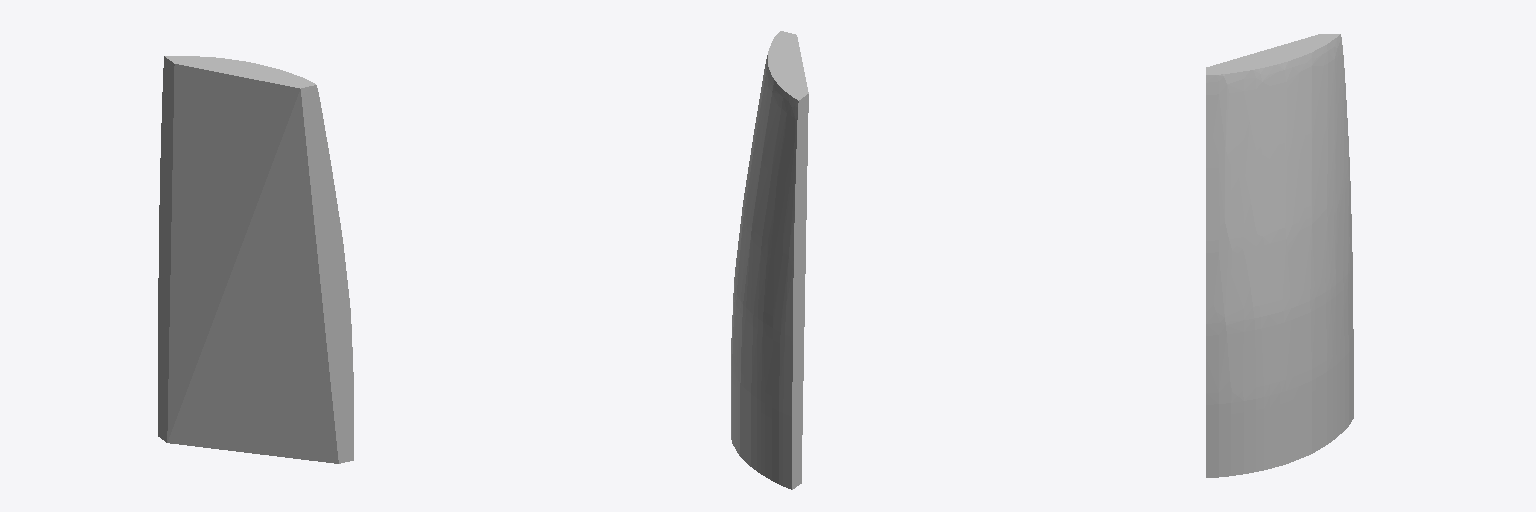
File: laundry_basket_collision_20.obj
The picture shows the model from 3 angles: view 1: azimuth 30°, elevation 25°; view 2: azimuth 150°, elevation 25°; view 3: azimuth 270°, elevation 25°; orthographic projection.
Bounding box in the file's own units: 0.3363 × 1.01 × 0.3507.